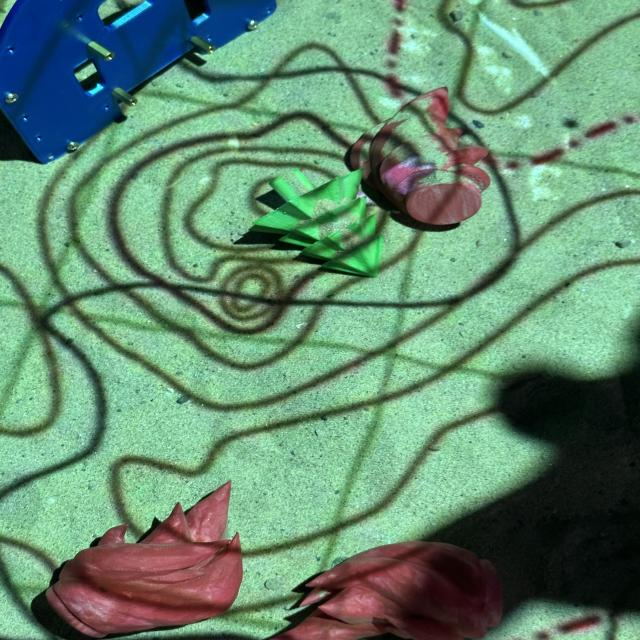fire: (41, 481, 244, 639), (269, 538, 508, 640), (354, 84, 496, 228)
tree: (250, 164, 384, 274)
